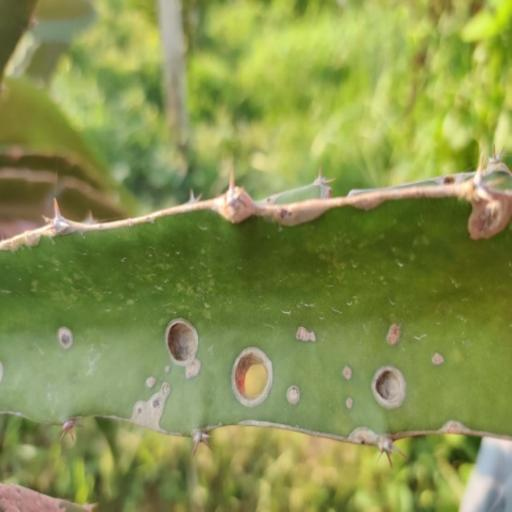stemcanker: (179, 360, 212, 387), (52, 326, 78, 358), (426, 348, 450, 378), (288, 374, 305, 416), (295, 320, 318, 350), (342, 392, 366, 417), (386, 324, 407, 351), (340, 360, 358, 381), (162, 362, 178, 383), (138, 377, 158, 393)
